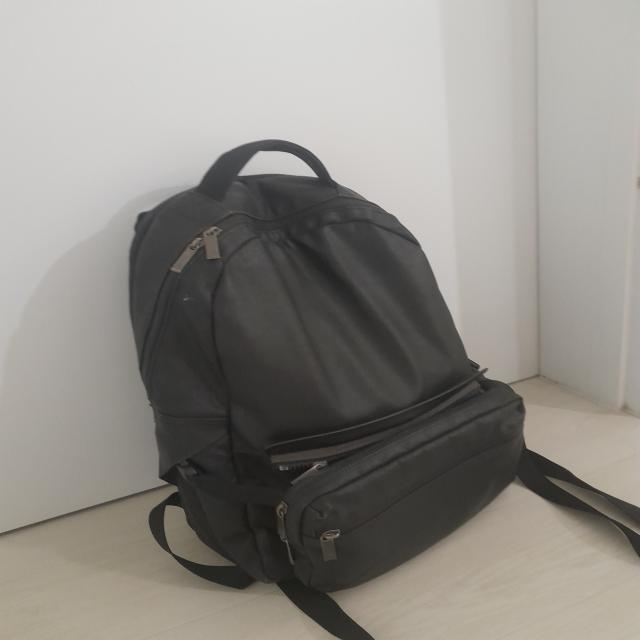backpack: (128, 139, 640, 640)
